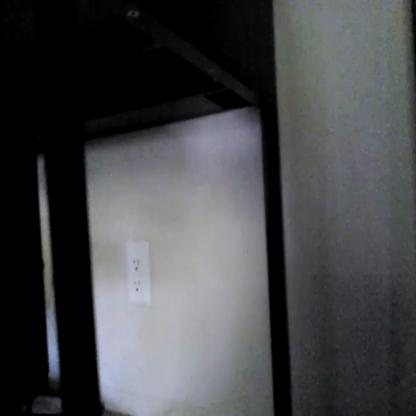OUTLET: (126, 242, 151, 303)
